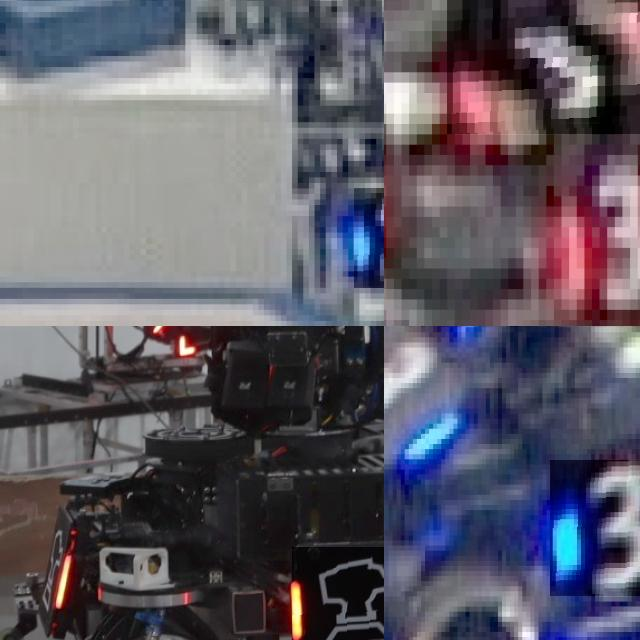B2: (353, 188, 384, 287)
B3: (550, 459, 640, 596)
R3: (447, 0, 640, 134), (553, 155, 640, 310)
Rs: (292, 546, 384, 640), (41, 525, 74, 614)
